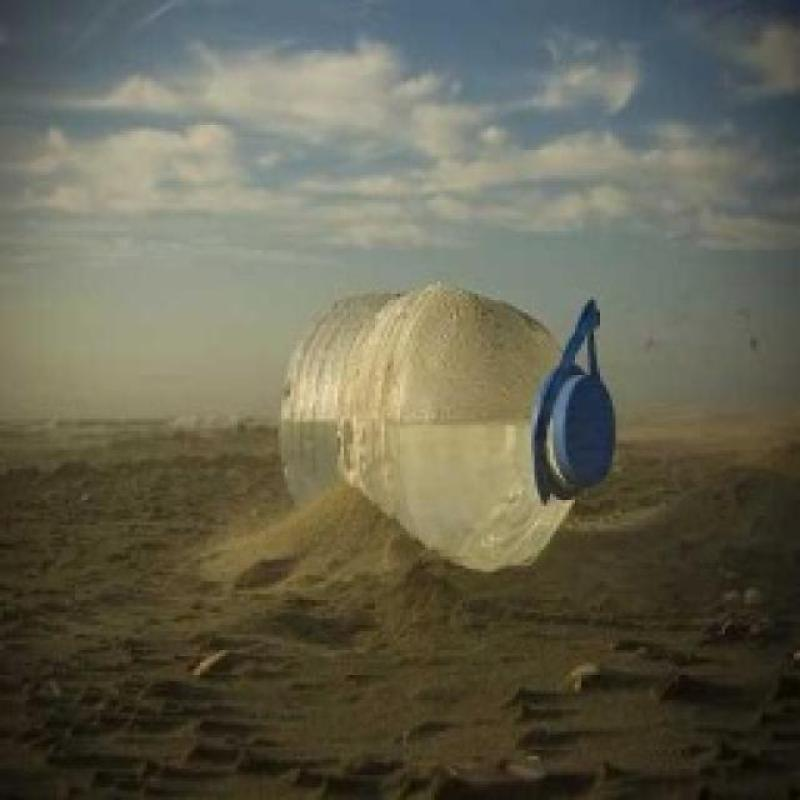botella: (282, 291, 620, 578)
